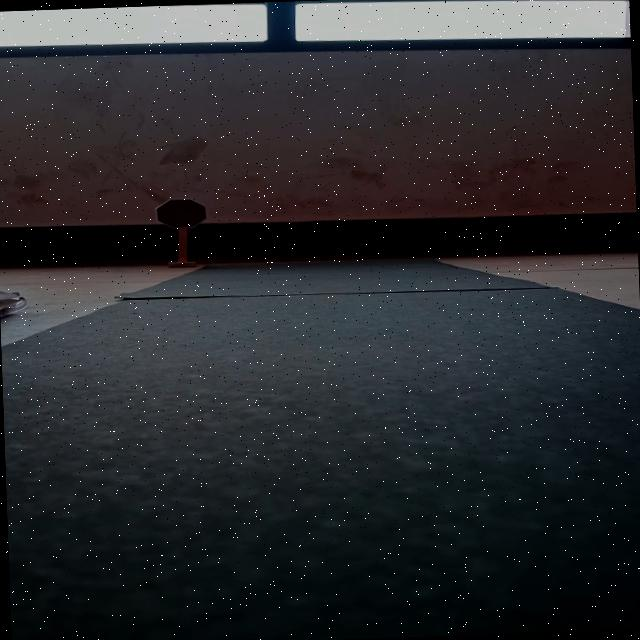Stop: (154, 198, 206, 230)
